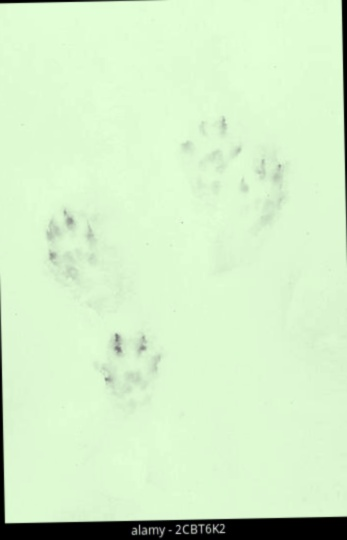ecureuil: (170, 102, 299, 245), (27, 197, 117, 303), (87, 318, 171, 421)
